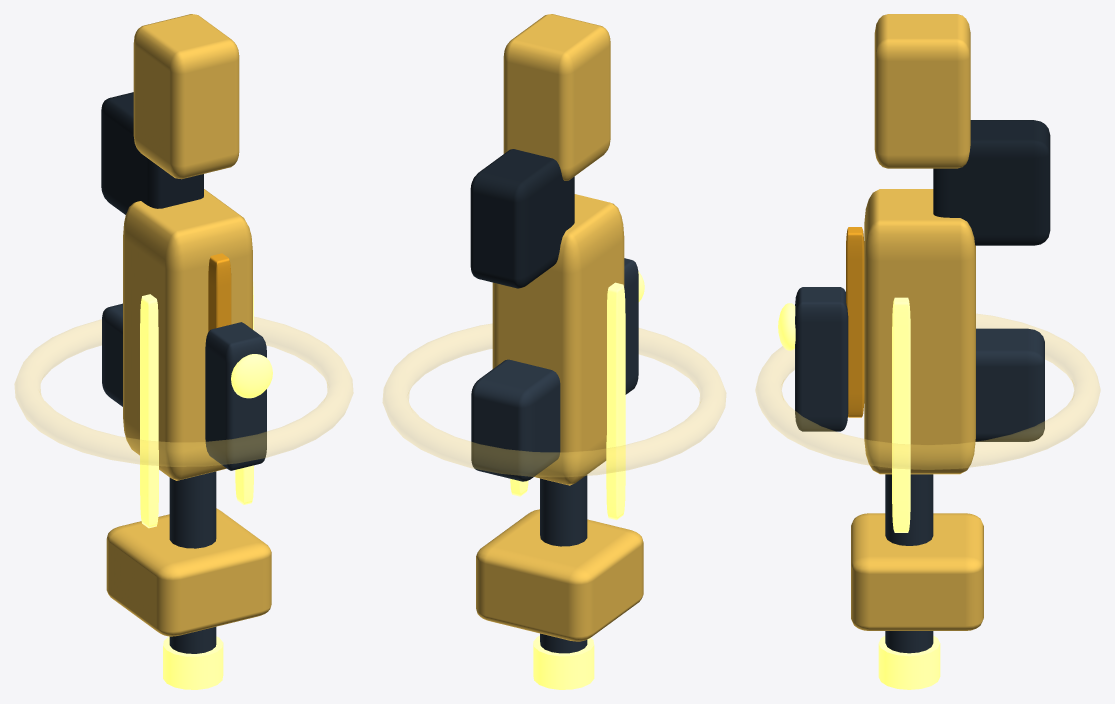
Rendered from rifle-10.glb.
3 renders of one model, left to right at view 1: azimuth 30°, elevation 25°; view 2: azimuth 150°, elevation 25°; view 3: azimuth 270°, elevation 25°, orthographic.
Size of the model in its own units: 0.7475 by 1.55 by 0.7475.
